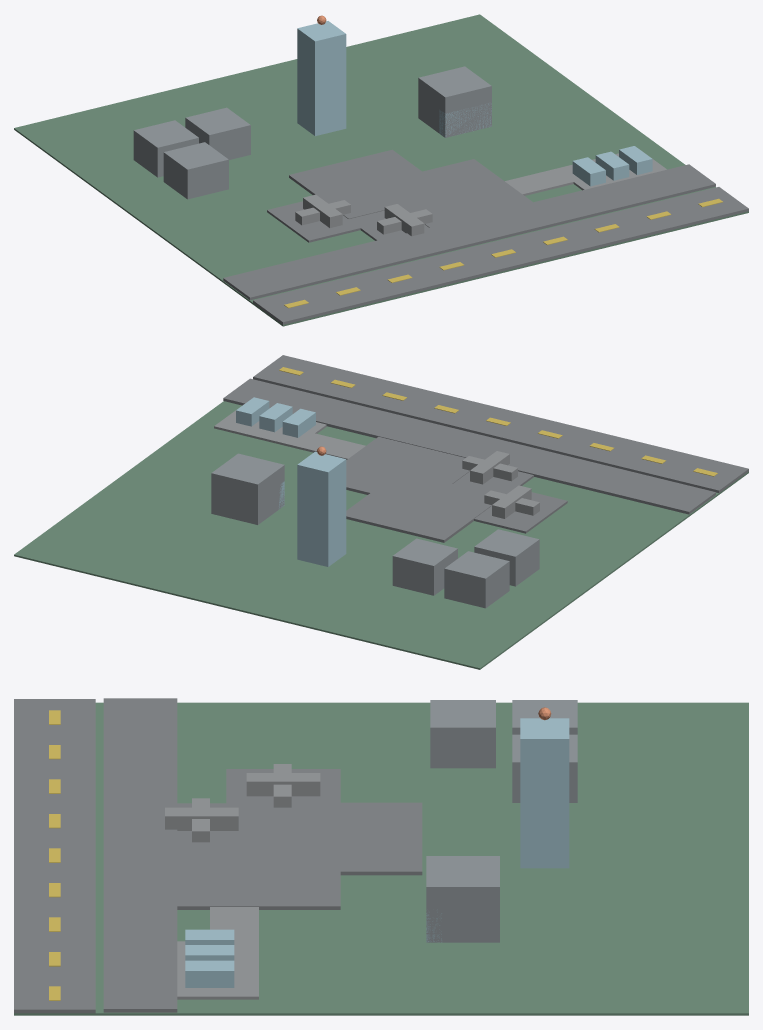
Rendered from stage_12.glb.
3 renders of one model, top to bottom at view 1: azimuth 30°, elevation 25°; view 2: azimuth 150°, elevation 25°; view 3: azimuth 270°, elevation 25°, orthographic. The views are drawn at different scales.
Visible parts, largest first — view 1: geometry_0; view 2: geometry_0; view 3: geometry_0.
Part boxes in pixels (box(x1,y1,x2,y2)): geometry_0: box(14, 14, 748, 326); geometry_0: box(14, 355, 748, 669); geometry_0: box(14, 698, 748, 1015).
Size of the model in its own units: 9 by 2.06 by 9.
